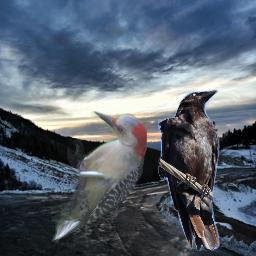Crow: (158, 88, 220, 251)
Woodpecker: (51, 111, 147, 244)
